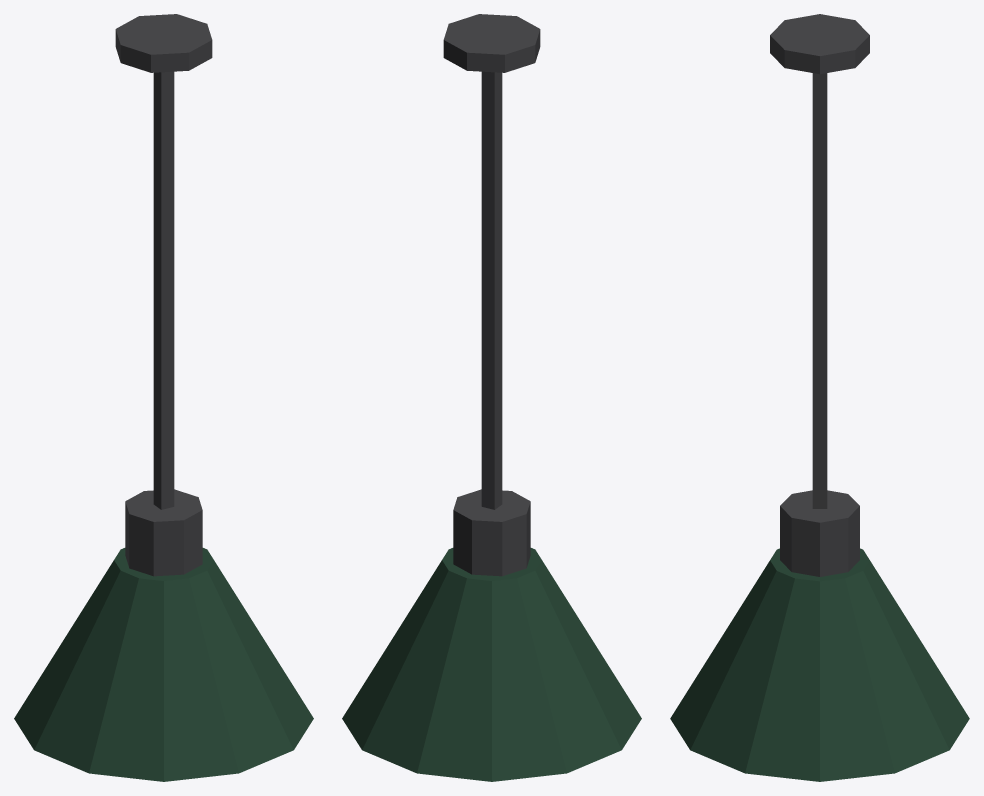
File: Warehouse_CeilingLight.glb
The picture shows the model from 3 angles, left to right: view 1: azimuth 30°, elevation 25°; view 2: azimuth 150°, elevation 25°; view 3: azimuth 270°, elevation 25°; orthographic projection.
Visible parts, largest first — view 1: Warehouse_CeilingLight; view 2: Warehouse_CeilingLight; view 3: Warehouse_CeilingLight.
Boxes of the visible parts, x1,y1,x2,y2 form: Warehouse_CeilingLight: (14, 14, 313, 781); Warehouse_CeilingLight: (342, 14, 641, 781); Warehouse_CeilingLight: (670, 14, 969, 781).
Bounding box in the file's own units: 1.2 × 3.04 × 1.2.
